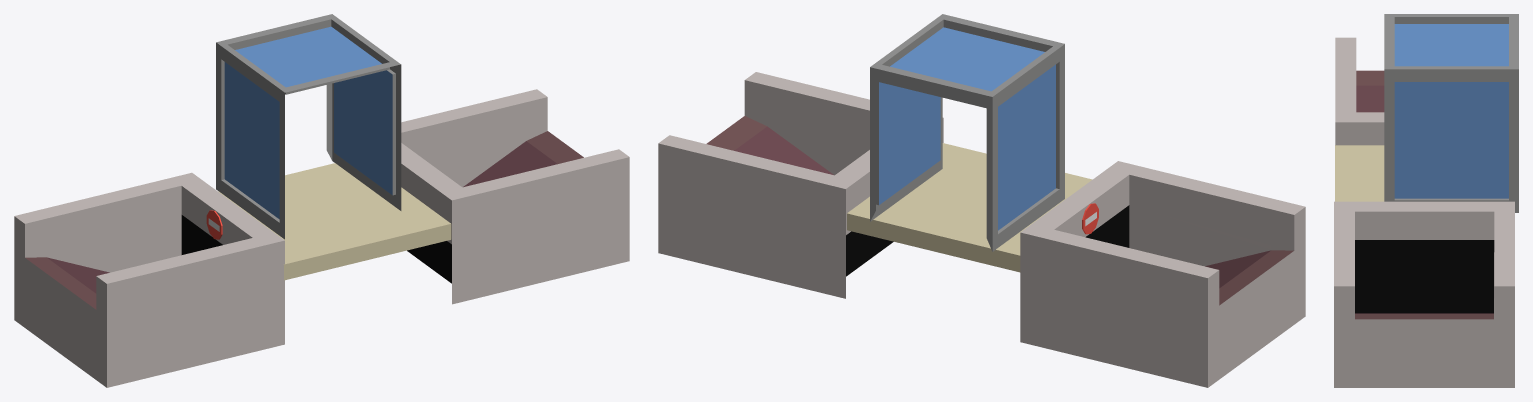
File: tingchekou_01.FBX
The picture shows the model from 3 angles, left to right: view 1: azimuth 30°, elevation 25°; view 2: azimuth 150°, elevation 25°; view 3: azimuth 270°, elevation 25°; orthographic projection. The views are drawn at different scales.
Visible parts, largest first — view 1: kou01; view 2: kou01; view 3: kou01.
Boxes of the visible parts, x1,y1,x2,y2 form: kou01: [14, 14, 629, 387]; kou01: [658, 14, 1305, 387]; kou01: [1334, 14, 1518, 387].
Size of the model in its own units: 445 by 185 by 140.
